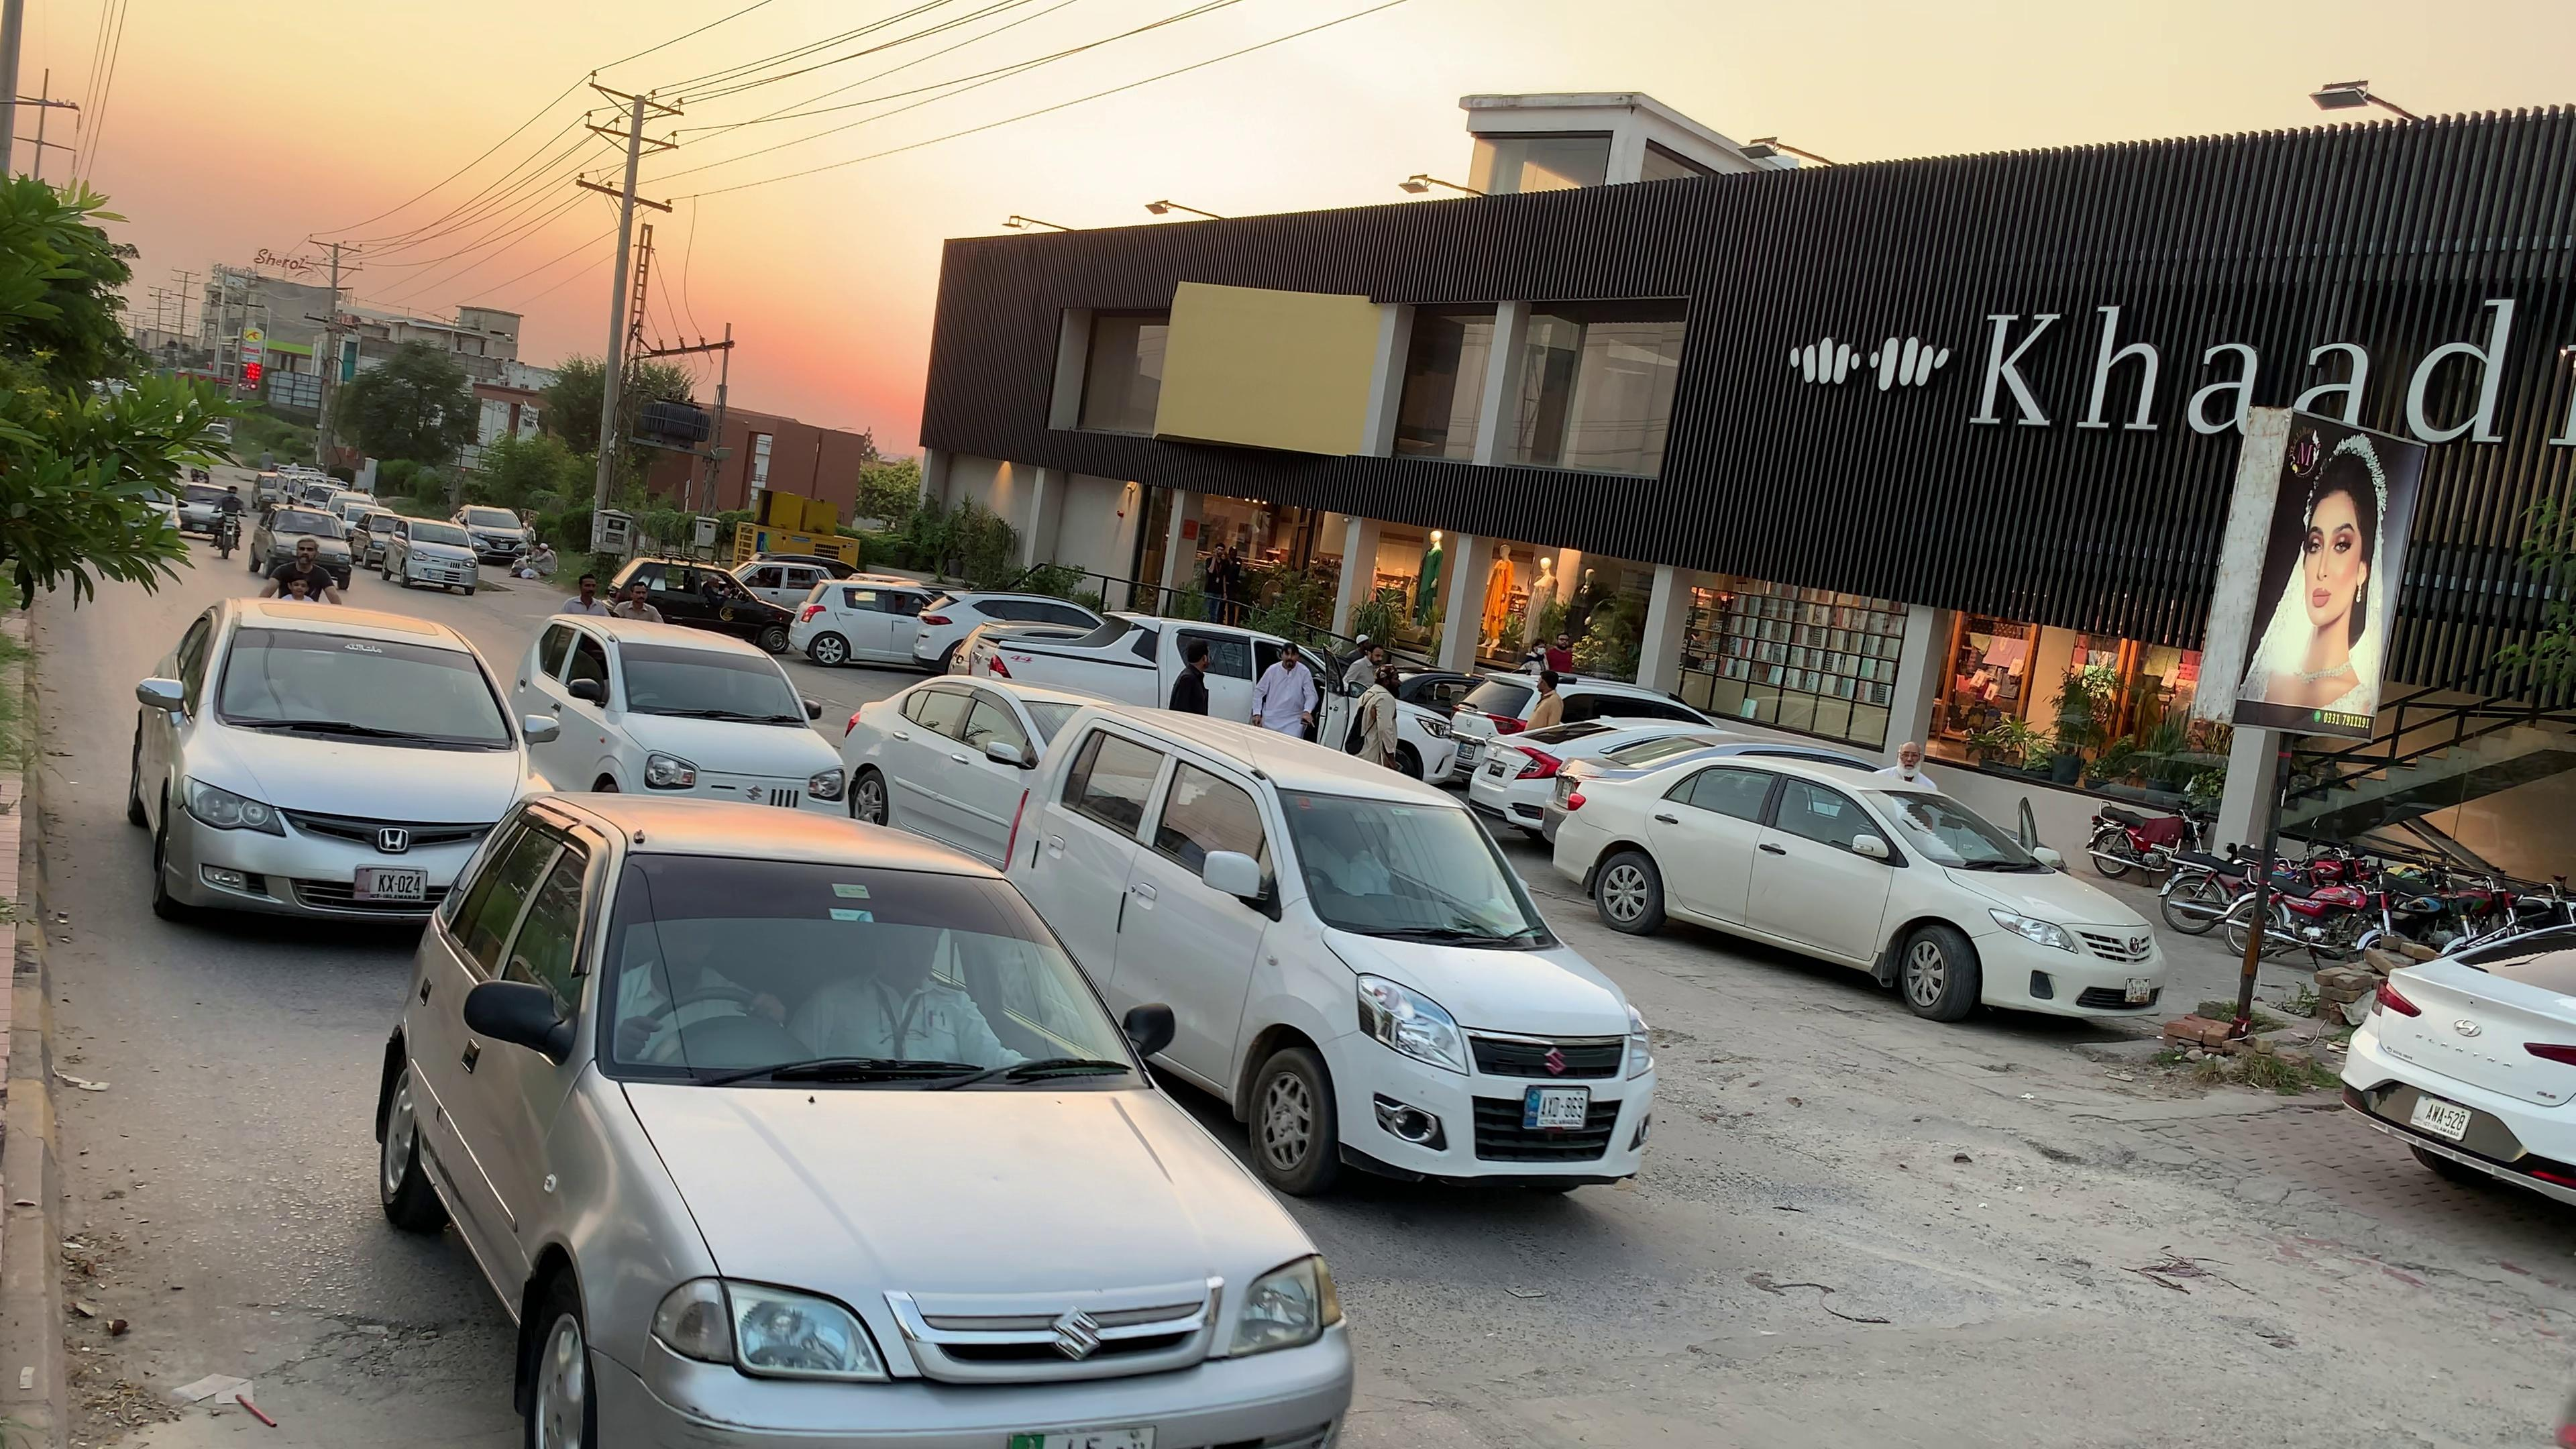windshield: (584, 832, 1168, 1134), (1265, 761, 1573, 952), (212, 607, 541, 755)
